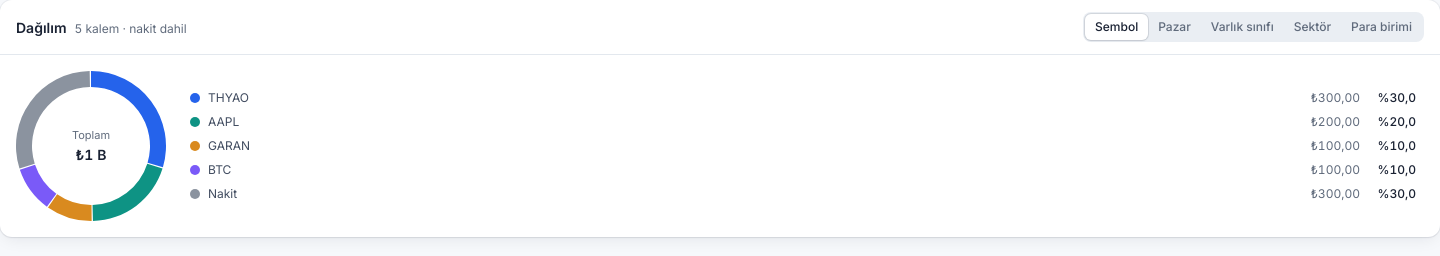
Test: Allocation › switches between the symbol, market and currency views
Click the radio button labelled "Pazar" at (1174, 27), box [1148,14,1201,40]
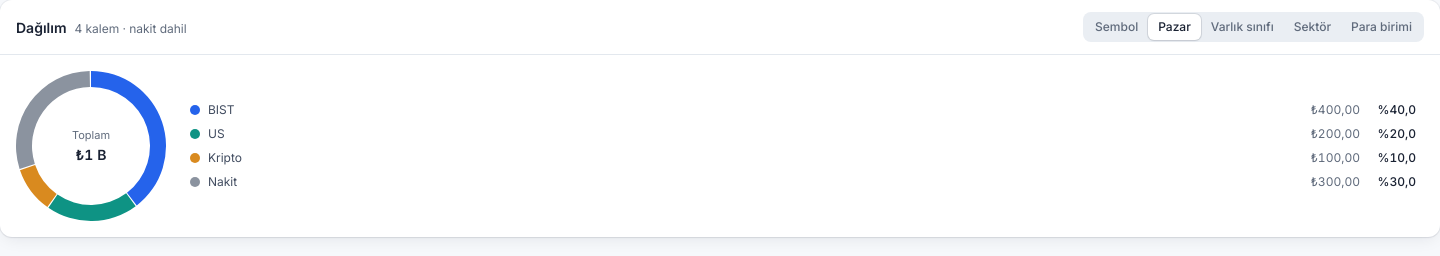
Click the radio button labelled "Para birimi" at (1382, 27), box [1341,14,1422,40]
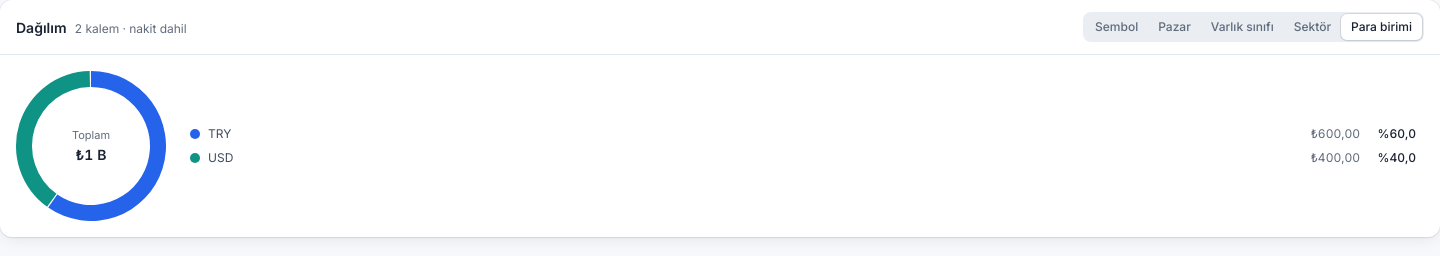
Now the text "2 kalem · nakit dahil" is shown, box [74,20,187,36]
